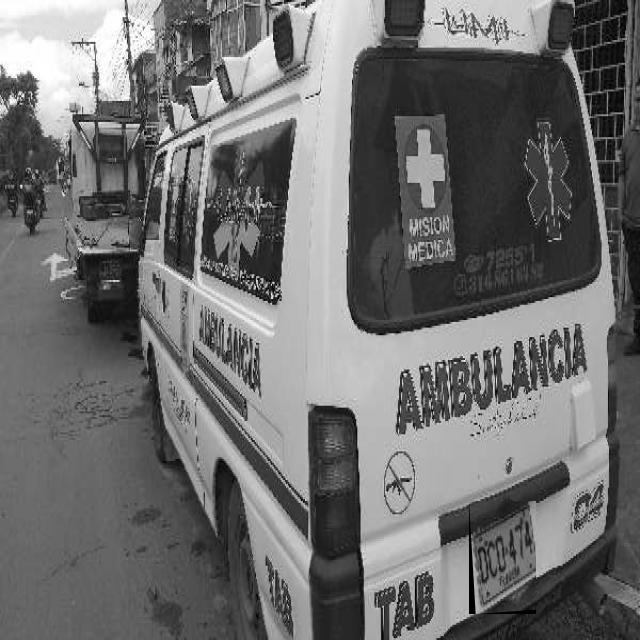plate: (470, 501, 536, 614)
